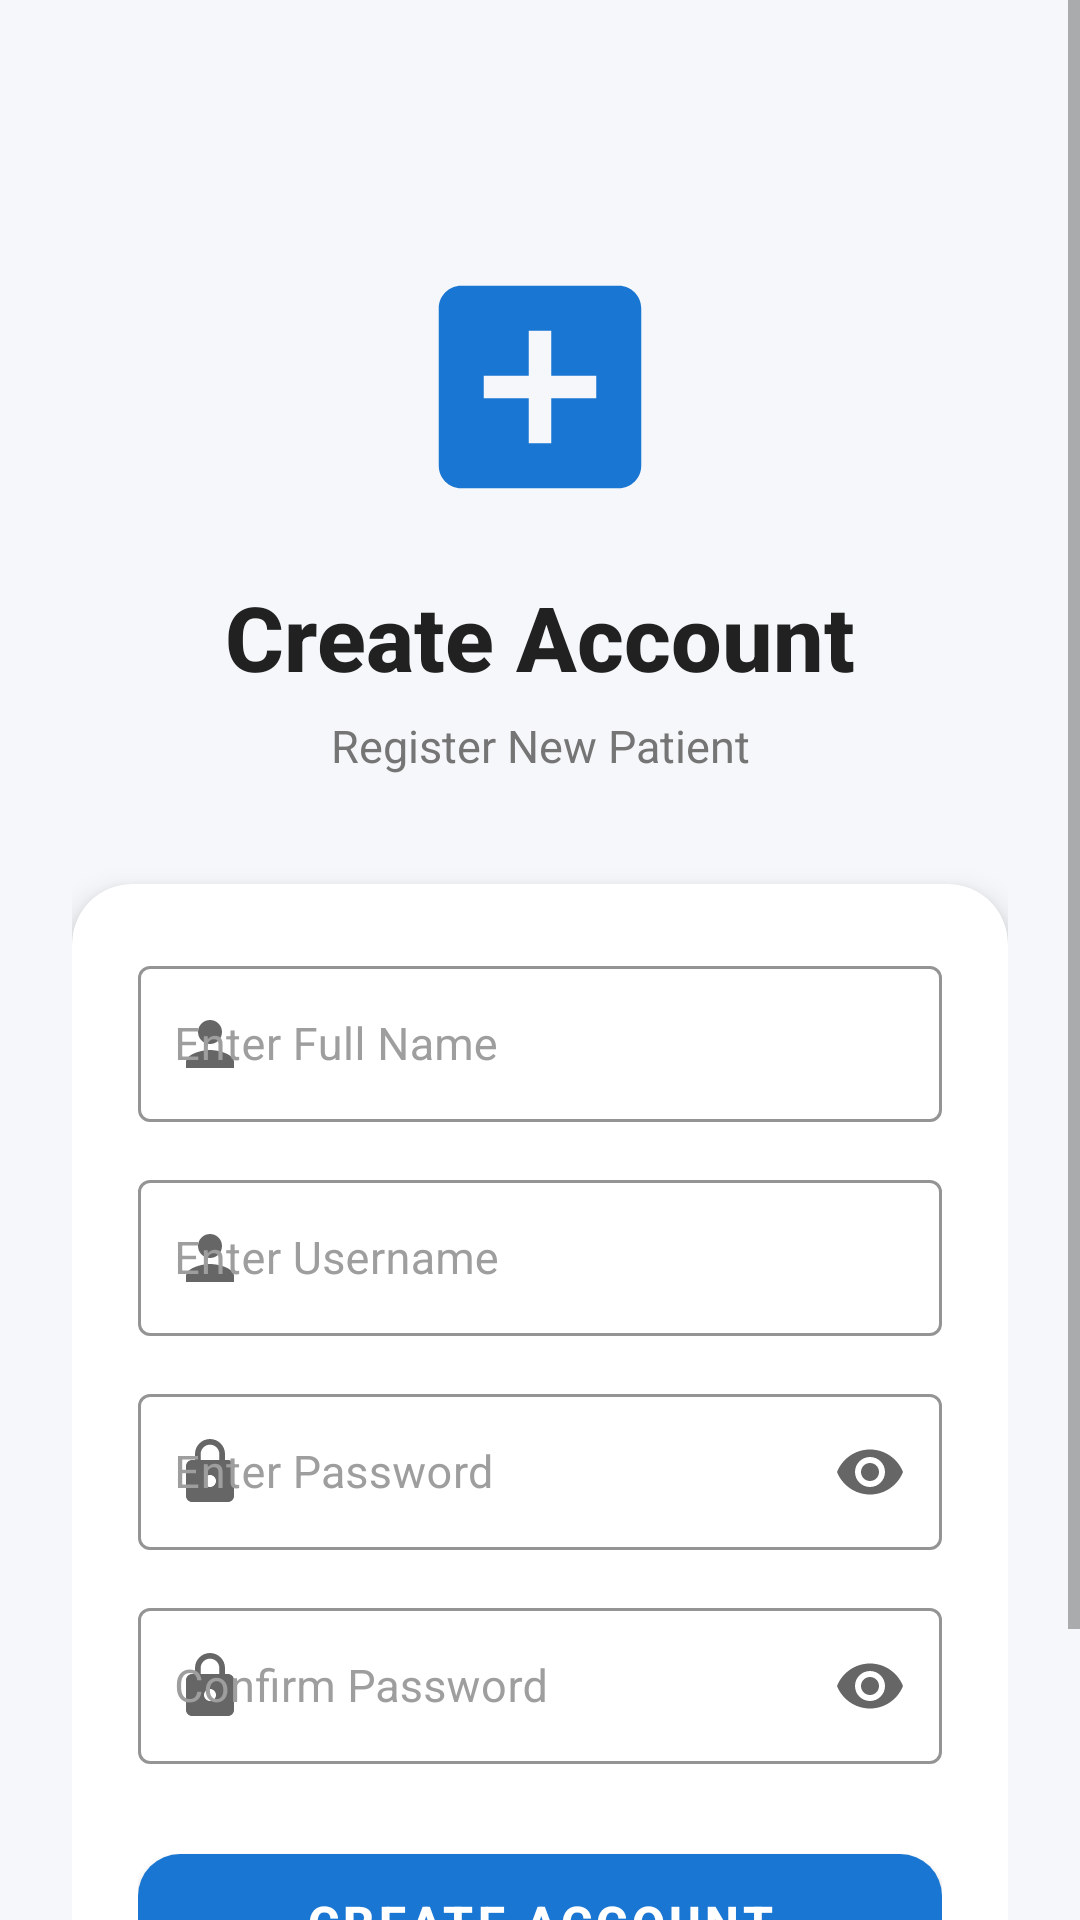

Icon click points for this 1080 x 1920 phone screenshot, format point (x, y):
hospital: point (540, 387)
